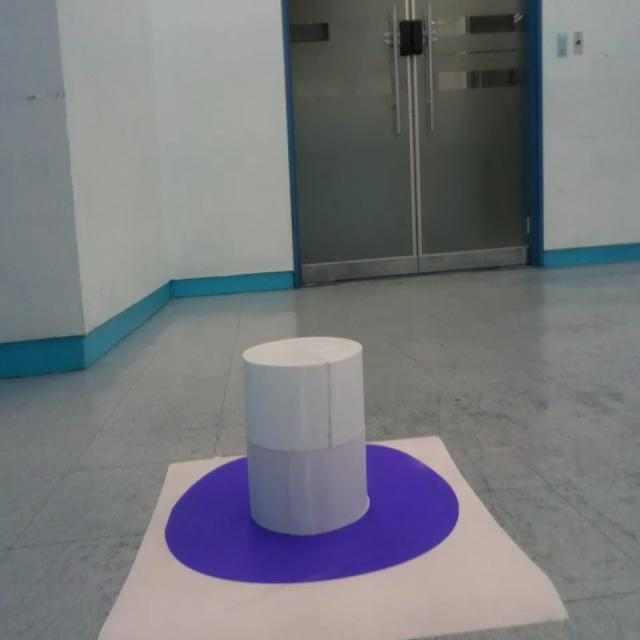cylinder: (241, 335, 368, 536)
